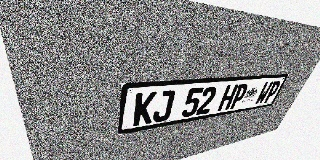2: (195, 86, 218, 115)
5: (181, 87, 204, 118)
H: (217, 84, 239, 111)
J: (152, 90, 176, 123)
K: (132, 91, 157, 126)
P: (228, 83, 250, 109), (262, 80, 282, 103)
W: (254, 81, 274, 105)
